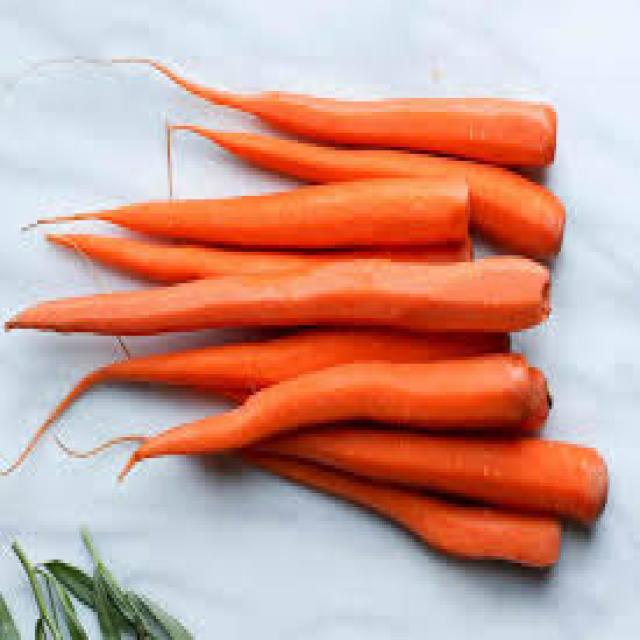Carrot: (100, 176, 473, 252)
